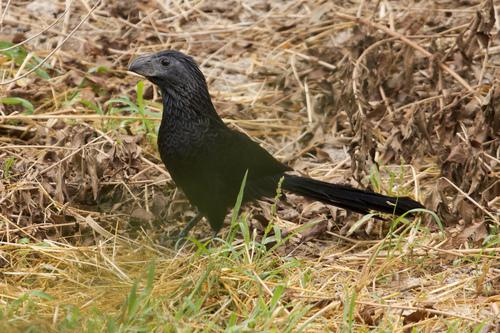004.Groove_billed_Ani: (126, 48, 424, 241)
